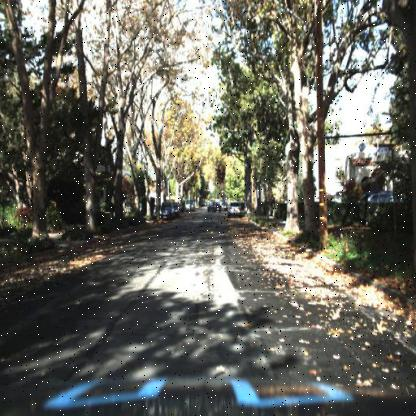car: (359, 184, 399, 207), (359, 185, 397, 208), (155, 199, 175, 222), (227, 198, 243, 218), (206, 199, 221, 212), (172, 199, 180, 220)
